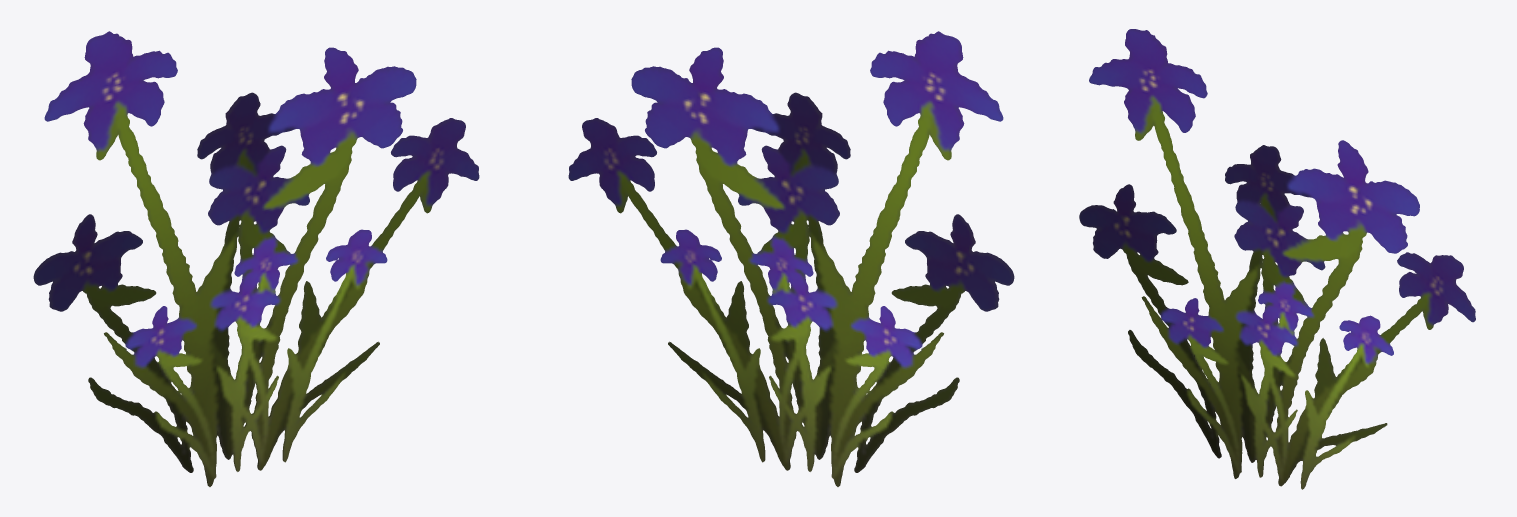
Rendered from hp_flower1.glb.
3 views of the same model, side by side, from view 1: azimuth 30°, elevation 25°; view 2: azimuth 150°, elevation 25°; view 3: azimuth 330°, elevation 25° (orthographic). The views are drawn at different scales.
Visible parts, largest first — view 1: _MeshInstance3D_8; view 2: _MeshInstance3D_8; view 3: _MeshInstance3D_8.
Part boxes in pixels (x1,y1,x2,y2): _MeshInstance3D_8: (33, 31, 479, 486); _MeshInstance3D_8: (568, 31, 1014, 486); _MeshInstance3D_8: (1079, 29, 1475, 489).
Size of the model in its own units: 5.24 by 5.11 by 0.02.
Materials: 1 (1 with a texture image).
